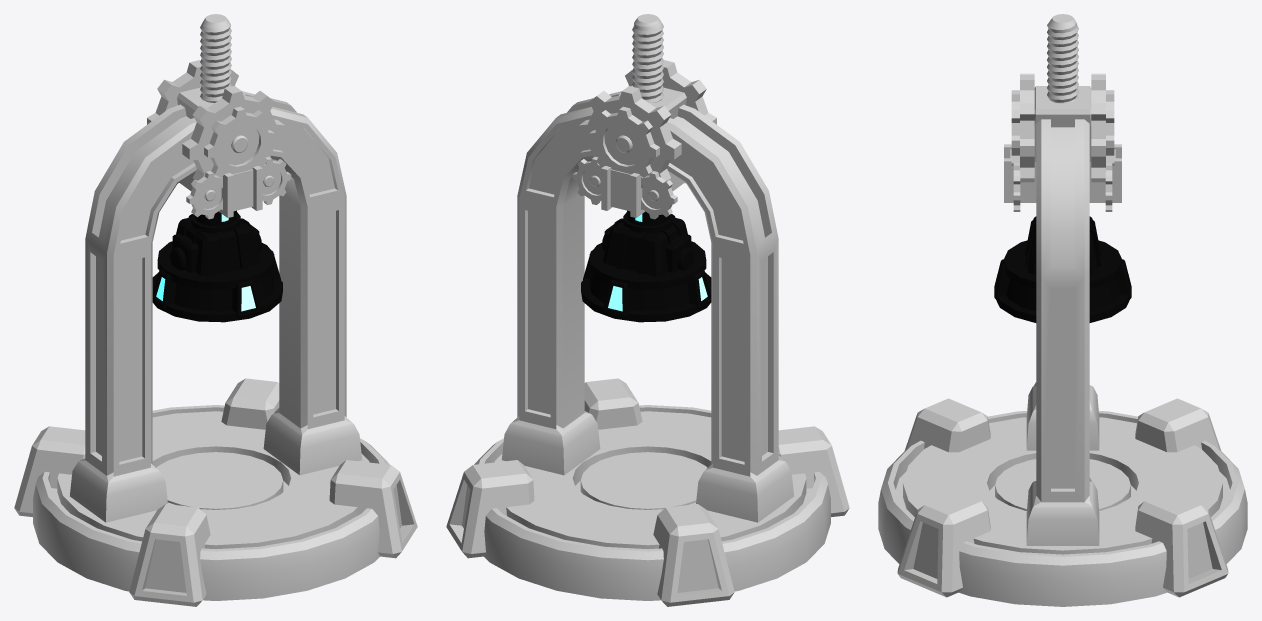
The model's file is MyTower_Hammer.fbx.
The picture shows the model from 3 angles, left to right: view 1: azimuth 30°, elevation 25°; view 2: azimuth 150°, elevation 25°; view 3: azimuth 270°, elevation 25°; orthographic projection.
Parts seen in each view (by area): view 1: MyTower_Hammer, LV1, hammer, emission; view 2: MyTower_Hammer, LV1, hammer, emission; view 3: LV1, MyTower_Hammer, hammer.
Part boxes in pixels (<box>): MyTower_Hammer: <box>70,14,362,522</box>; LV1: <box>14,378,417,606</box>; hammer: <box>152,212,282,322</box>; emission: <box>127,135,325,368</box>; MyTower_Hammer: <box>502,14,793,522</box>; LV1: <box>446,378,849,606</box>; hammer: <box>581,212,711,322</box>; emission: <box>538,135,736,368</box>; LV1: <box>878,398,1247,606</box>; MyTower_Hammer: <box>1004,14,1121,545</box>; hammer: <box>994,216,1131,322</box>.
Bounding box in the file's own units: 0.9343 × 1.42 × 0.9343.
